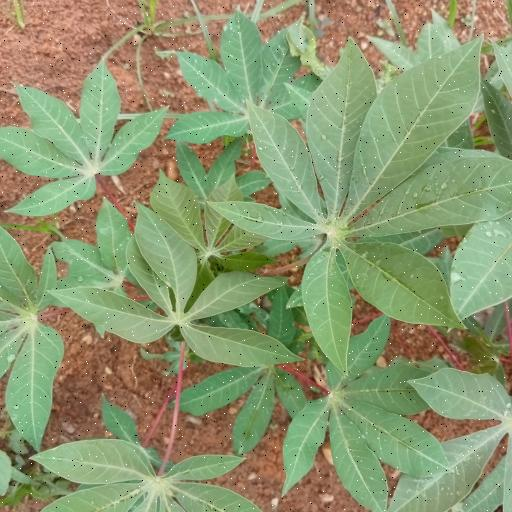Cassava_Mosaic: (215, 52, 512, 354), (72, 212, 318, 367), (279, 322, 455, 500), (7, 65, 162, 213), (36, 437, 255, 512), (0, 221, 70, 422)
